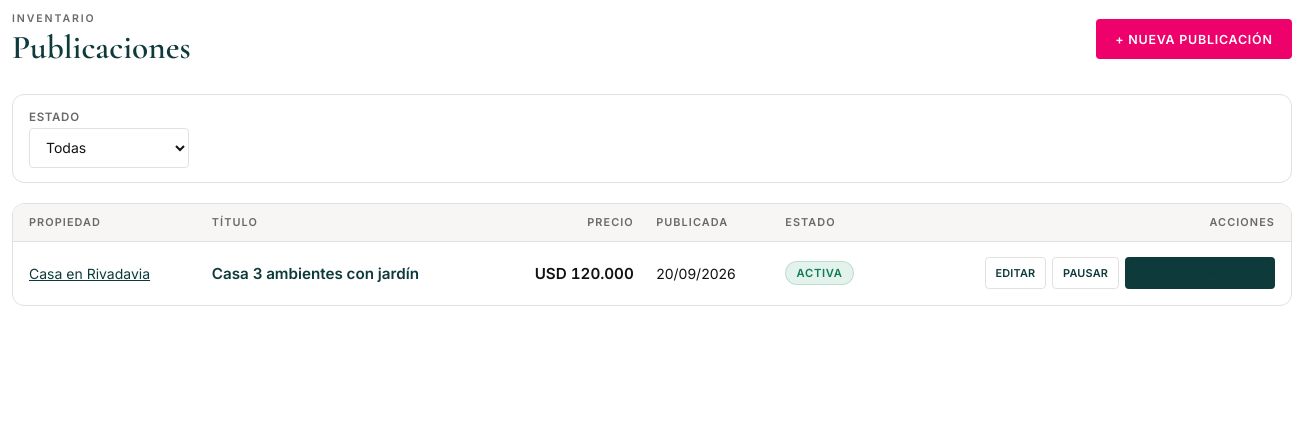
Test case: muestra el mensaje del backend si una acción falla
Click the button "Pausar" at (1086, 273), box x1=1052 y1=257 x2=1119 y2=289
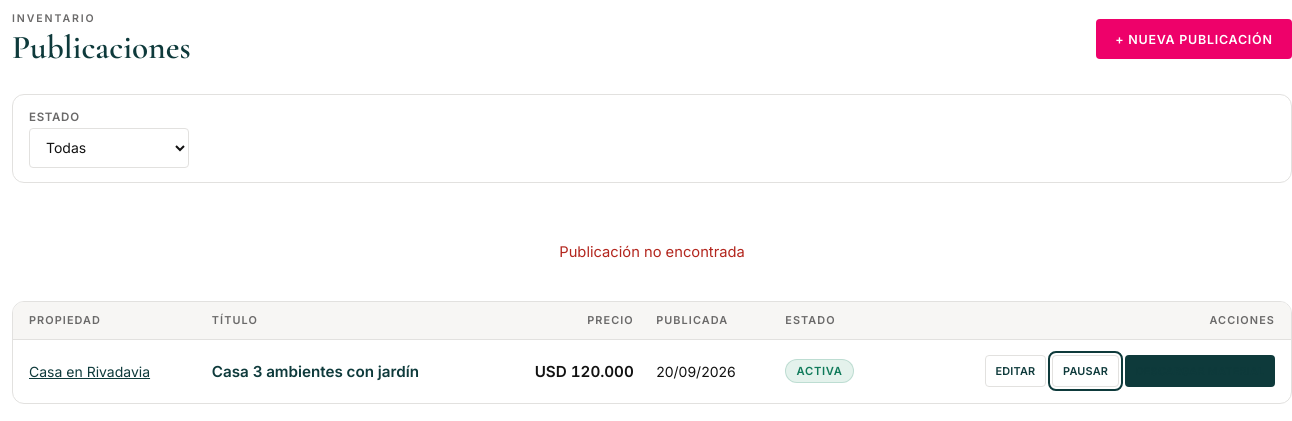
Now the text "Publicación no encontrada" is shown, box x1=559 y1=243 x2=745 y2=261
